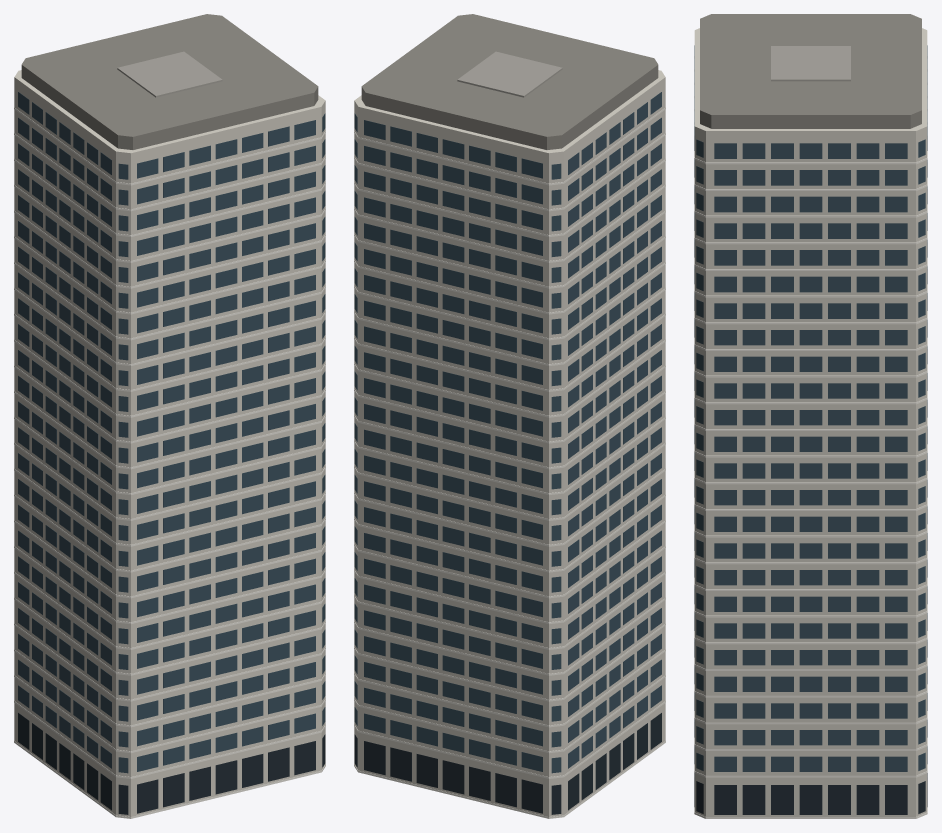
File: tower-prism.glb
3 views of the same model, side by side, from view 1: azimuth 30°, elevation 25°; view 2: azimuth 150°, elevation 25°; view 3: azimuth 270°, elevation 25° (orthographic). The views are drawn at different scales.
Visible parts, largest first — view 1: Crown, Envelope_25, Envelope_1, Envelope_7, Envelope_3, Envelope_10, Envelope_11, Envelope_2, Envelope_4, Envelope_5, Envelope_6, Envelope_9 (+47 smaller); view 2: Crown, Envelope_25, Envelope_1, Envelope_7, Envelope_3, Envelope_10, Envelope_11, Envelope_2, Envelope_4, Envelope_5, Envelope_6, Envelope_9 (+47 smaller); view 3: Crown, Envelope_25, Envelope_1, Envelope_4, Envelope_7, Envelope_10, Envelope_13, Envelope_16, Envelope_19, Envelope_22, Envelope_5, Envelope_8 (+47 smaller).
Boxes of the visible parts, bbox=[...] form: Crown: bbox=[21, 14, 318, 149]; Envelope_25: bbox=[14, 70, 325, 183]; Envelope_1: bbox=[14, 703, 325, 816]; Envelope_7: bbox=[14, 548, 325, 647]; Envelope_3: bbox=[14, 651, 325, 751]; Envelope_10: bbox=[14, 471, 325, 570]; Envelope_11: bbox=[14, 445, 325, 544]; Envelope_2: bbox=[14, 677, 325, 776]; Envelope_4: bbox=[14, 626, 325, 725]; Envelope_5: bbox=[14, 600, 325, 699]; Envelope_6: bbox=[14, 574, 325, 673]; Envelope_9: bbox=[14, 497, 325, 596]; Crown: bbox=[361, 14, 658, 149]; Envelope_25: bbox=[354, 70, 665, 183]; Envelope_1: bbox=[354, 703, 665, 816]; Envelope_7: bbox=[354, 548, 665, 647]; Envelope_3: bbox=[354, 651, 665, 751]; Envelope_10: bbox=[354, 471, 665, 570]; Envelope_11: bbox=[354, 445, 665, 544]; Envelope_2: bbox=[354, 677, 665, 776]; Envelope_4: bbox=[354, 626, 665, 725]; Envelope_5: bbox=[354, 600, 665, 699]; Envelope_6: bbox=[354, 574, 665, 673]; Envelope_9: bbox=[354, 497, 665, 596]; Crown: bbox=[700, 14, 921, 128]; Envelope_25: bbox=[694, 28, 927, 162]; Envelope_1: bbox=[694, 773, 927, 816]; Envelope_4: bbox=[694, 693, 927, 722]; Envelope_7: bbox=[694, 613, 927, 642]; Envelope_10: bbox=[694, 533, 927, 562]; Envelope_13: bbox=[694, 453, 927, 482]; Envelope_16: bbox=[694, 373, 927, 402]; Envelope_19: bbox=[694, 293, 927, 322]; Envelope_22: bbox=[694, 213, 927, 242]; Envelope_5: bbox=[694, 666, 927, 695]; Envelope_8: bbox=[694, 586, 927, 615].
Size of the model in its own units: 26.4 by 81.76 by 24.6.
